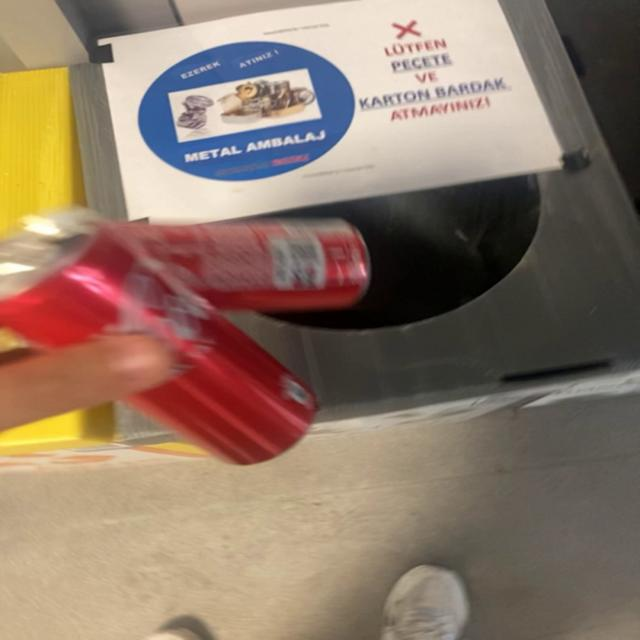bin: (229, 0, 639, 420), (68, 62, 142, 219)
metal: (0, 208, 367, 465)
